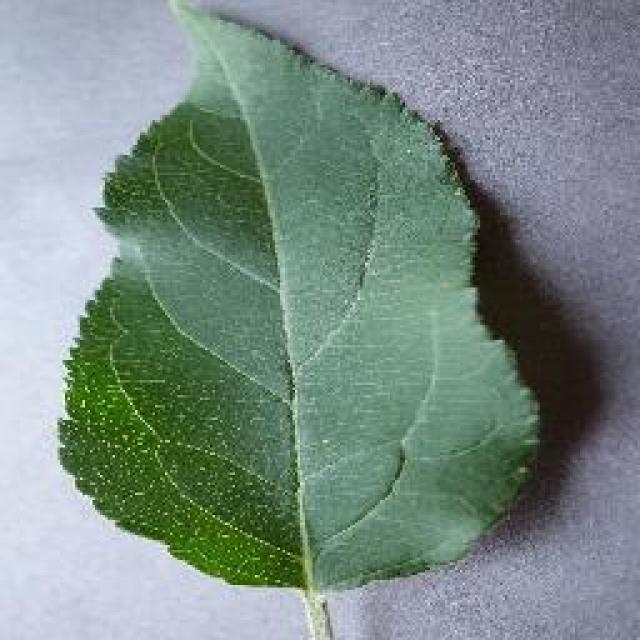apple scab disease: (55, 0, 545, 635)
